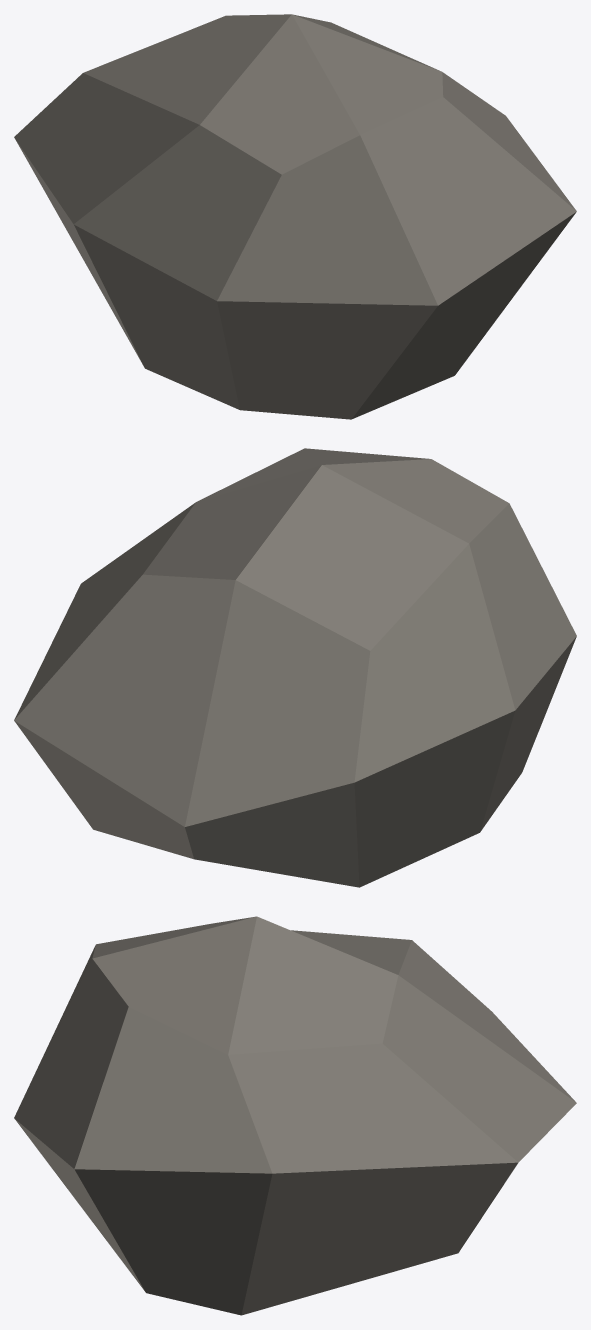
Rendered from Stone.001.glb.
The picture shows the model from 3 angles, top to bottom: view 1: azimuth 30°, elevation 25°; view 2: azimuth 150°, elevation 25°; view 3: azimuth 270°, elevation 25°; orthographic projection. The views are drawn at different scales.
Visible parts, largest first — view 1: Stone.001; view 2: Stone.001; view 3: Stone.001.
Boxes of the visible parts, x1,y1,x2,y2 form: Stone.001: [14, 14, 576, 419]; Stone.001: [14, 448, 576, 887]; Stone.001: [14, 916, 576, 1315].
Bounding box in the file's own units: 1.59 × 1.25 × 1.92.
1 material, 1 textured.
